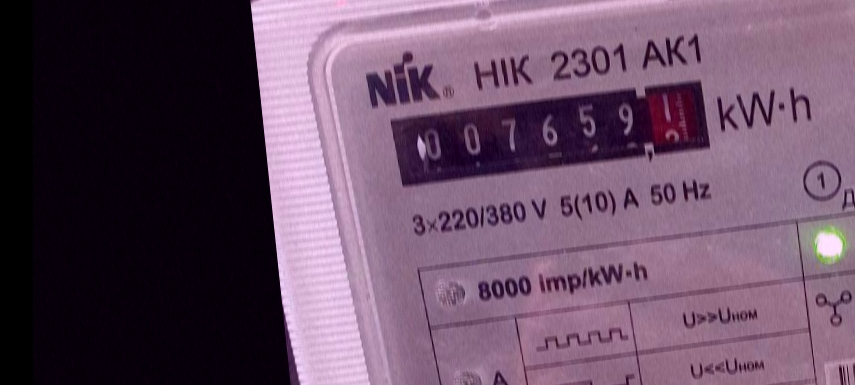0: (422, 123, 447, 164), (461, 119, 487, 158)
1: (658, 88, 678, 125)
5: (577, 101, 601, 140)
6: (538, 110, 564, 148)
7: (498, 114, 523, 154)
9: (615, 99, 640, 138)
screen: (382, 73, 723, 196)
